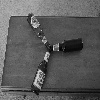beer: (32, 48, 49, 99)
